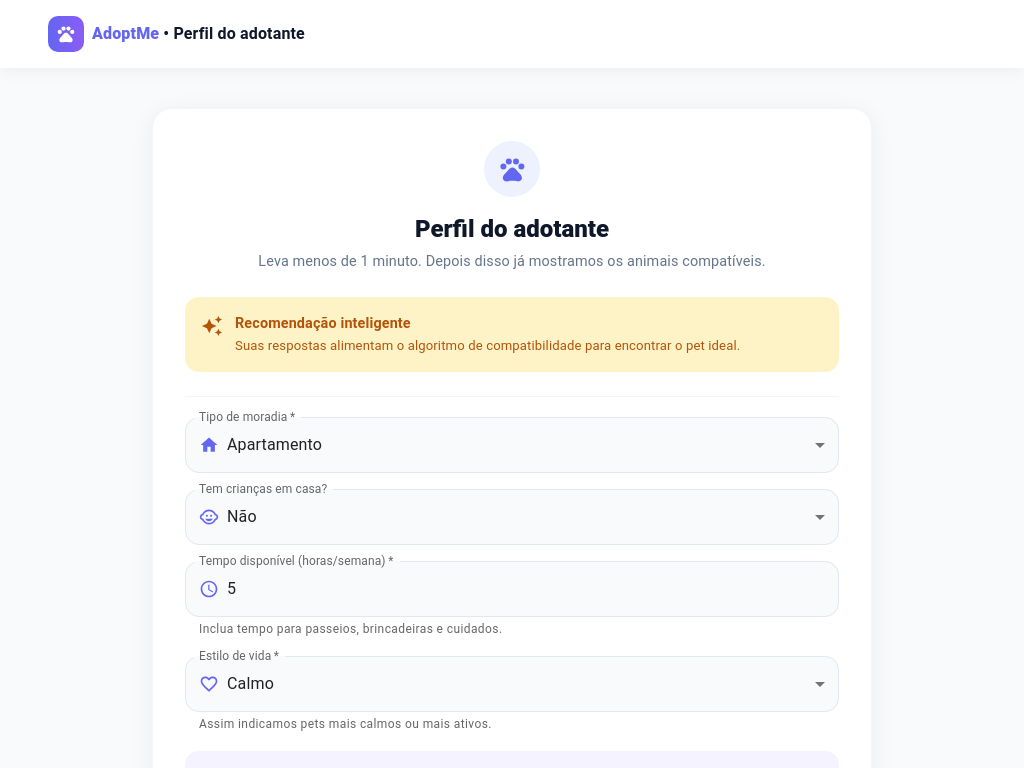
it: AdopterForm (page) › exibe erro quando save falha
Click the dropdown named "Tipo de moradia".
click(275, 445)  # box [227,435,322,454]
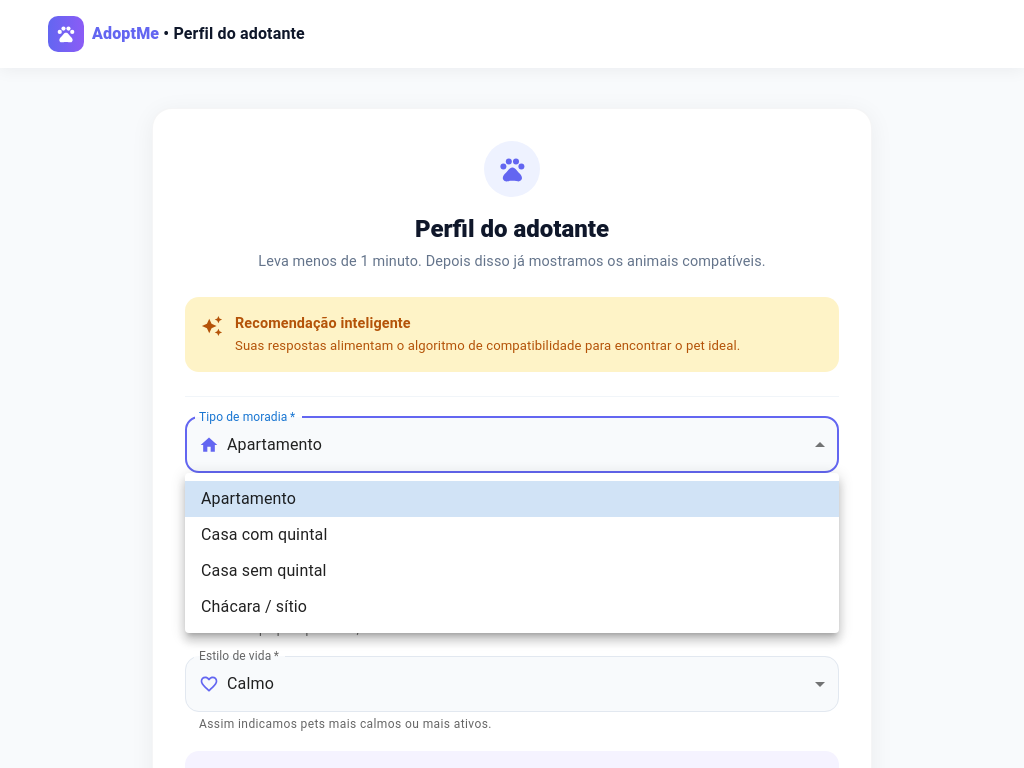
Click the option "Apartamento".
click(249, 498)  # box [185,481,839,517]
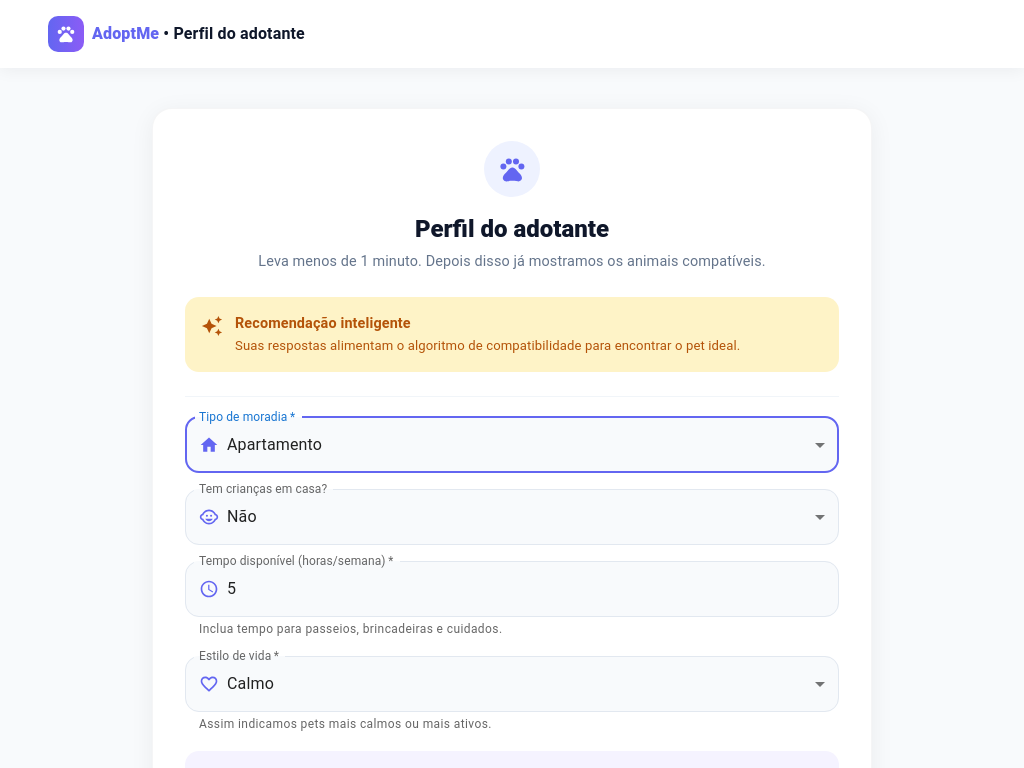
Click the dropdown named "Estilo de vida".
click(250, 684)  # box [227,674,274,693]
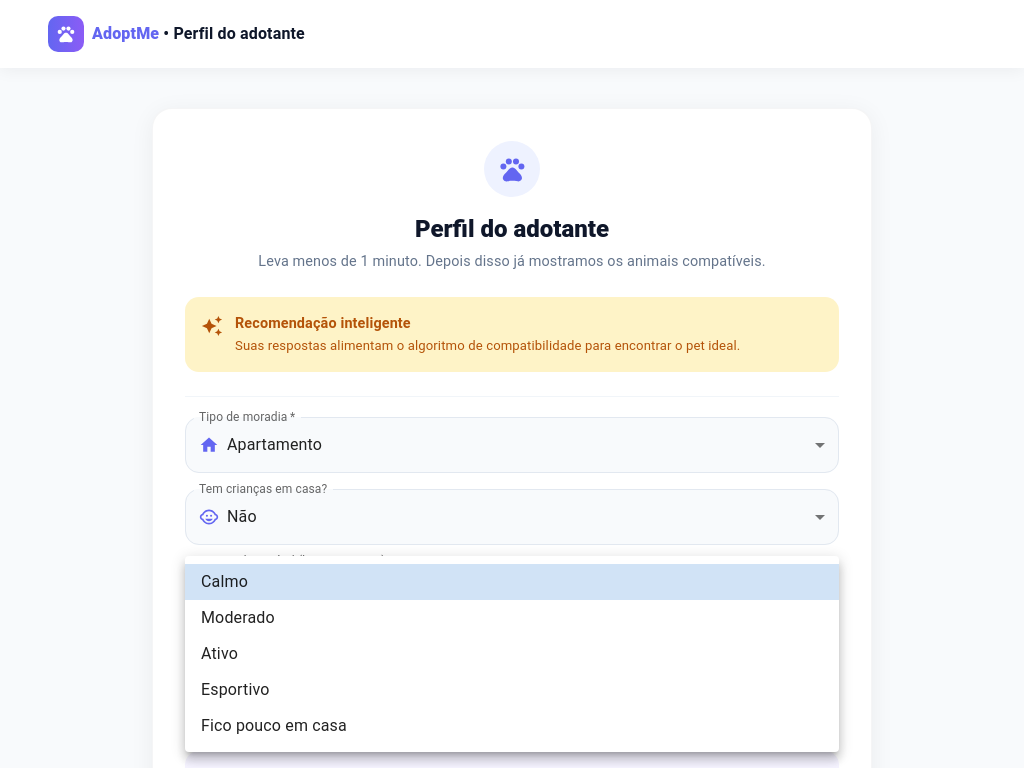
Click the option "Moderado".
click(238, 618)  # box [201,608,275,627]
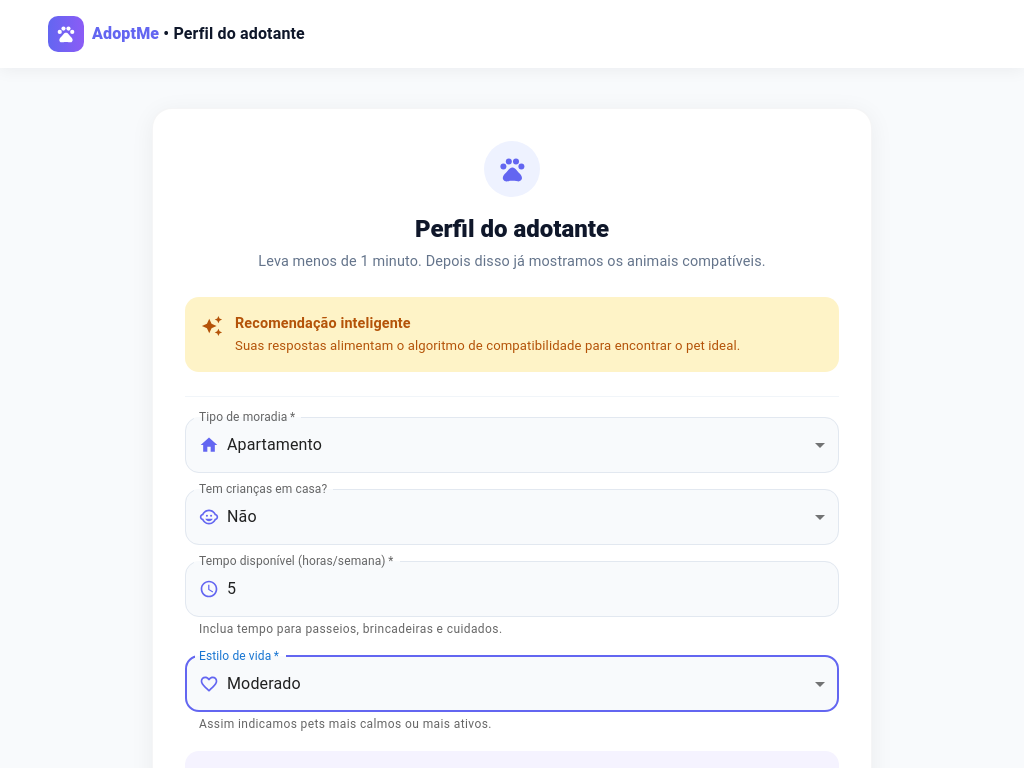
Replace the text in the number field labelled "Tempo disponível (horas/semana) *" with "10" at (533, 589), box [227,561,839,617]
(page scrolled)
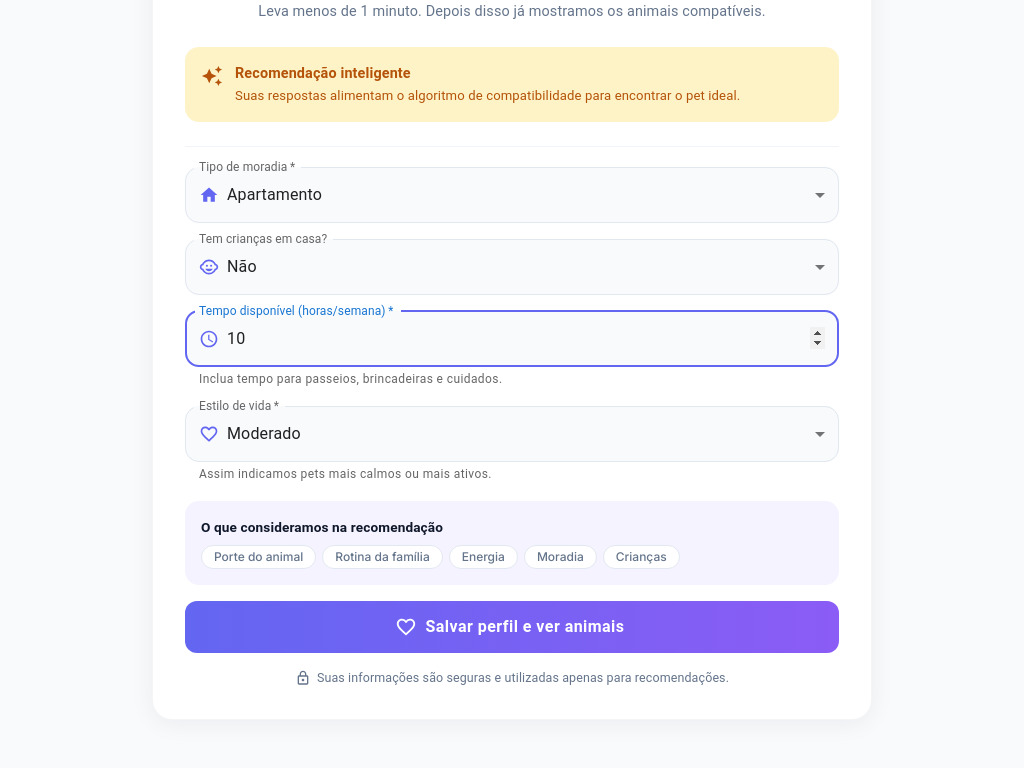
Click the button "Salvar perfil e ver animais".
click(512, 626)  # box [185,600,839,652]
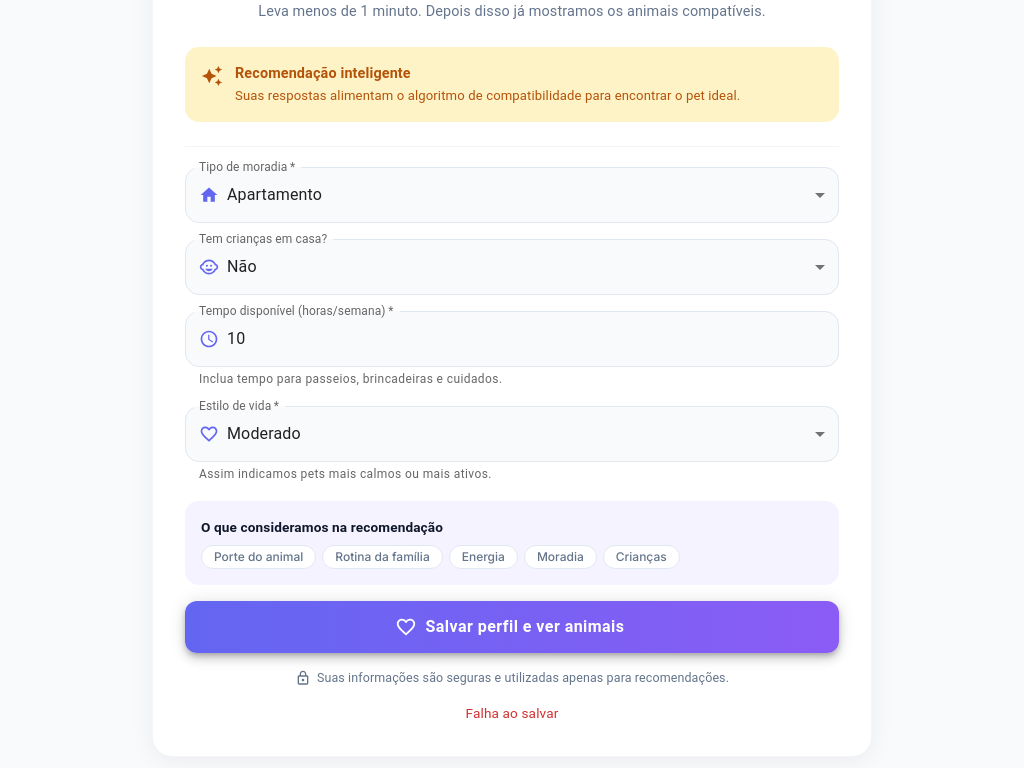
Now the text "Falha ao salvar" is shown, box [466,705,558,721]
